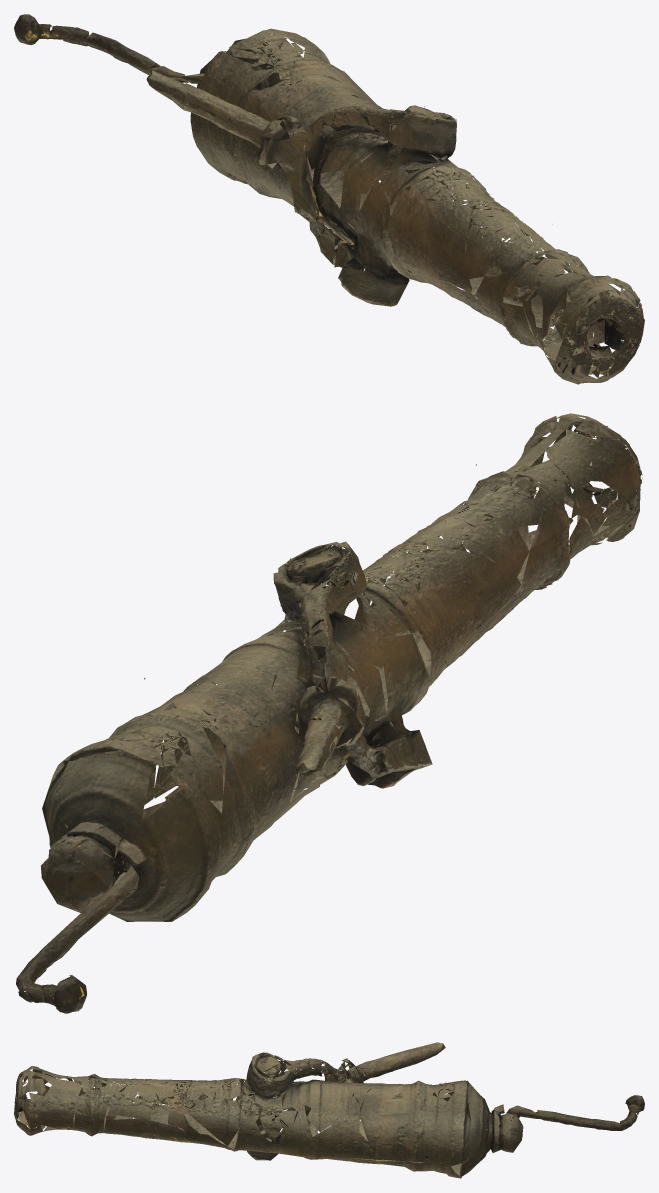
The model's file is gun.glb.
3 views of the same model, one above another, from view 1: azimuth 30°, elevation 25°; view 2: azimuth 150°, elevation 25°; view 3: azimuth 270°, elevation 25° (orthographic). The views are drawn at different scales.
Visible parts, largest first — view 1: Model_material0_0, Model_material3_0, Model_material2_0, Model_material1_0; view 2: Model_material0_0, Model_material1_0, Model_material2_0, Model_material3_0; view 3: Model_material1_0, Model_material3_0, Model_material2_0, Model_material0_0.
Part boxes in pixels (x1,y1,x2,y2): Model_material0_0: [31, 24, 636, 382]; Model_material3_0: [18, 17, 642, 384]; Model_material2_0: [14, 14, 641, 360]; Model_material1_0: [15, 17, 644, 377]; Model_material0_0: [18, 416, 640, 1006]; Model_material1_0: [16, 417, 641, 1011]; Model_material2_0: [26, 413, 641, 1013]; Model_material3_0: [50, 415, 642, 994]; Model_material1_0: [14, 1053, 636, 1166]; Model_material3_0: [14, 1053, 635, 1160]; Model_material2_0: [15, 1052, 644, 1175]; Model_material0_0: [14, 1042, 642, 1178].
Size of the model in its own units: 0.236 by 0.2016 by 1.
4 materials, 4 textured.
